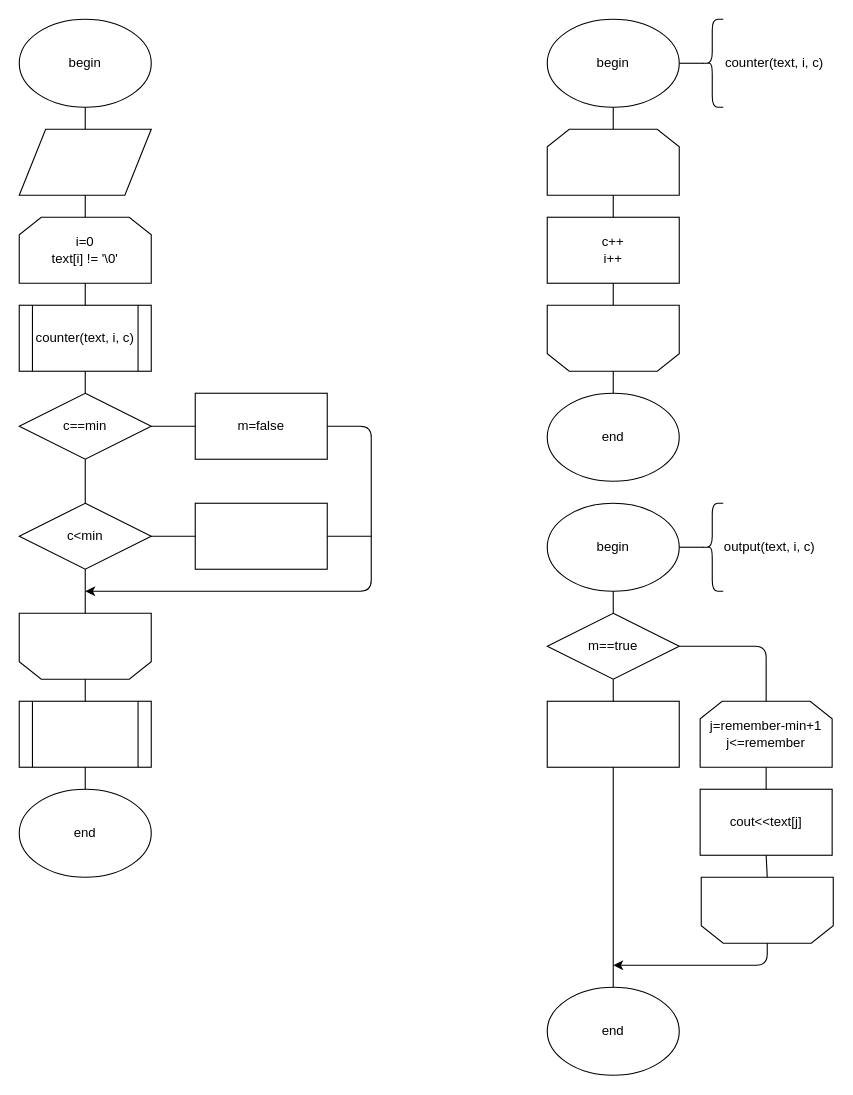
The diagram is 853 pixels wide and 1095 high, and some of its shapes have lost their labels. Each missing label, with the centre of its shape:
cout<<"There's no minimum group": (612,733)
gets(text): (84,161)
i++: (84,645)
j++: (766,909)
output(text, remember, min, m): (84,733)
remember=i min=c m=true: (260,535)
text[i]==text[i+1]: (612,161)
